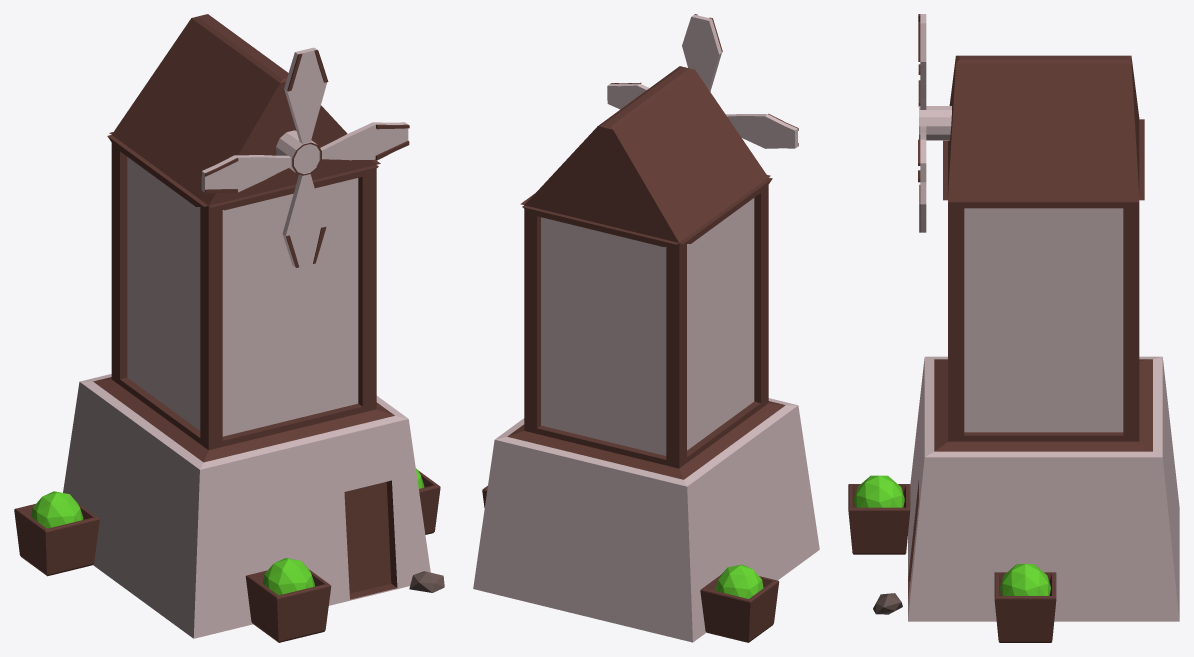
File: low-poly-mill-by-avin-vij-8kiVtCFeV1w.glb
3 views of the same model, side by side, from view 1: azimuth 30°, elevation 25°; view 2: azimuth 150°, elevation 25°; view 3: azimuth 270°, elevation 25° (orthographic). The views are drawn at different scales.
Visible parts, largest first — view 1: Cube, Cube.002_Cube.003, Cube.003_Cube.004, Cube.001_Cube.002, Icosphere; view 2: Cube, Cube.002_Cube.003; view 3: Cube, Cube.003_Cube.004, Cube.001_Cube.002, Icosphere.
Boxes of the visible parts, x1,y1,x2,y2 form: Cube: [63, 14, 430, 638]; Cube.002_Cube.003: [14, 491, 99, 576]; Cube.003_Cube.004: [245, 558, 331, 642]; Cube.001_Cube.002: [416, 468, 440, 534]; Icosphere: [409, 571, 444, 592]; Cube: [473, 14, 819, 642]; Cube.002_Cube.003: [700, 564, 779, 642]; Cube: [908, 14, 1179, 621]; Cube.003_Cube.004: [848, 475, 910, 554]; Cube.001_Cube.002: [994, 564, 1056, 642]; Icosphere: [873, 593, 902, 614].
Bounding box in the file's own units: 6.76 × 10.41 × 5.72.
